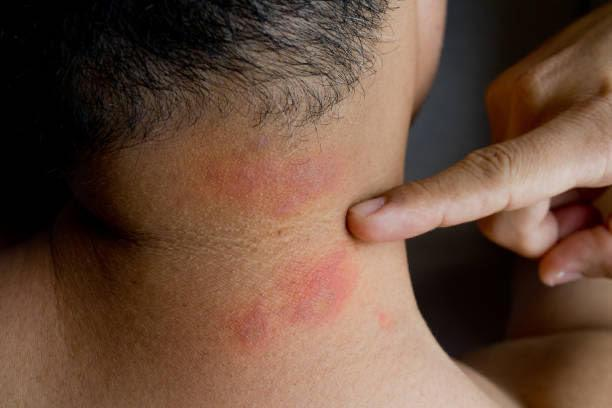Beetle: (222, 245, 373, 352), (204, 145, 343, 216)
